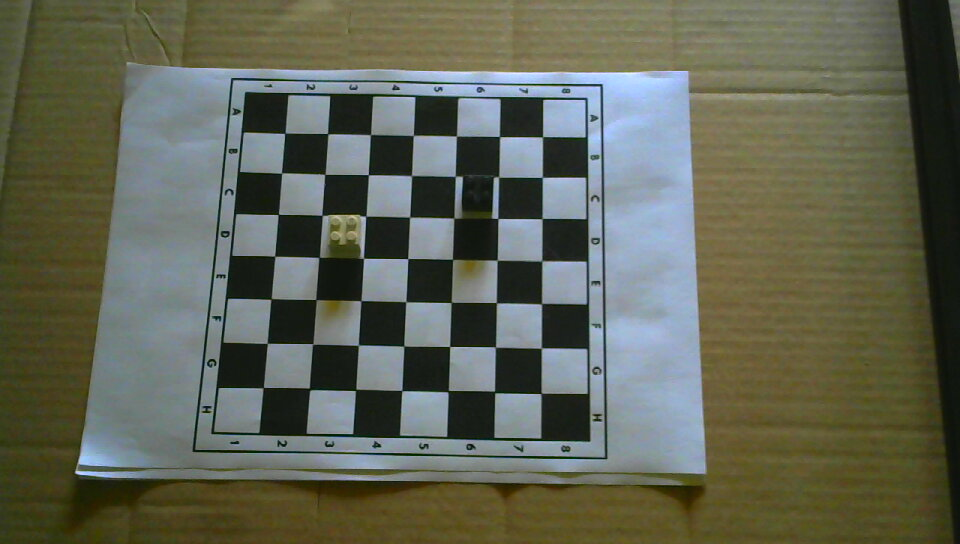bp: (459, 173, 495, 214)
wp: (325, 214, 362, 254)
